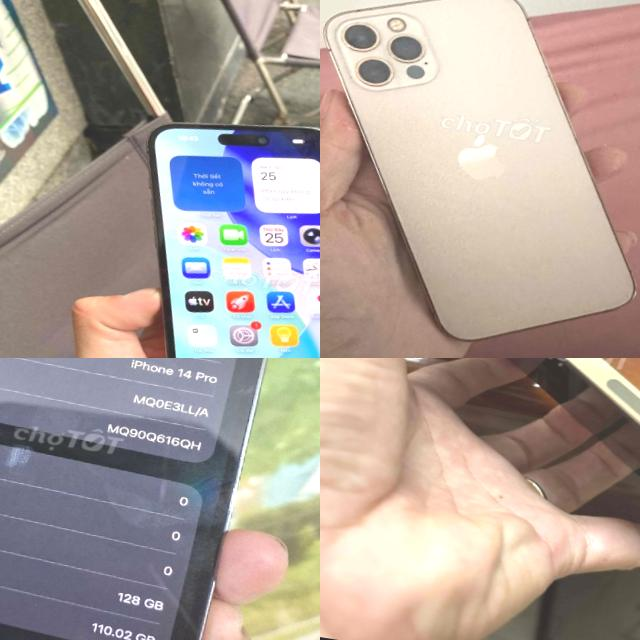gen_12_13: (320, 0, 640, 358), (320, 358, 640, 588)
gen_14: (0, 358, 273, 640), (105, 94, 320, 358)
